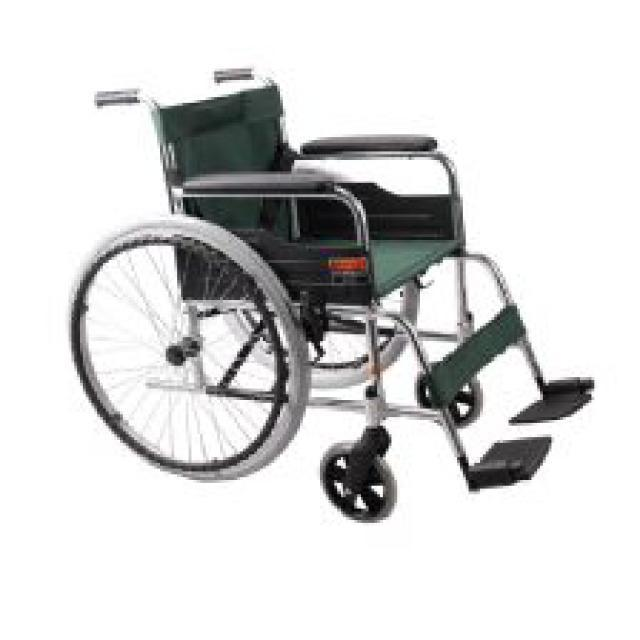wheelchair: (62, 54, 608, 520)
